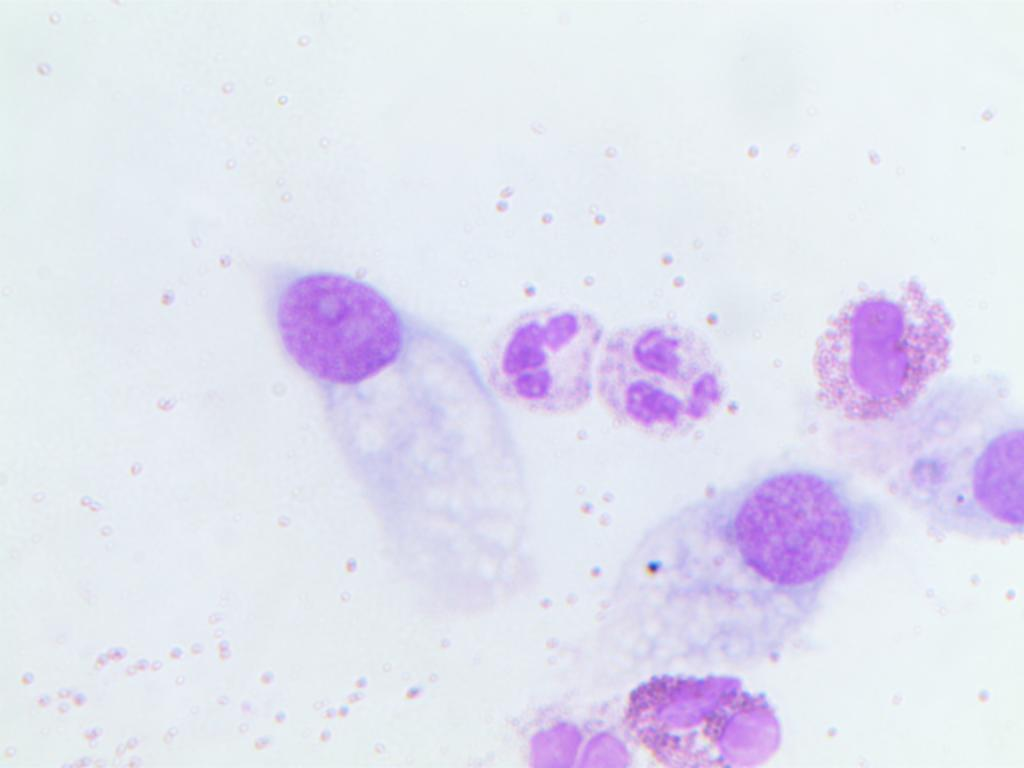eosinophil: (809, 270, 960, 421), (603, 662, 822, 762)
epithelial: (890, 411, 1023, 541)
goblet_cell: (268, 261, 478, 477), (653, 467, 865, 661)
neutrophil: (610, 299, 725, 437), (488, 286, 600, 408), (513, 711, 638, 768)
